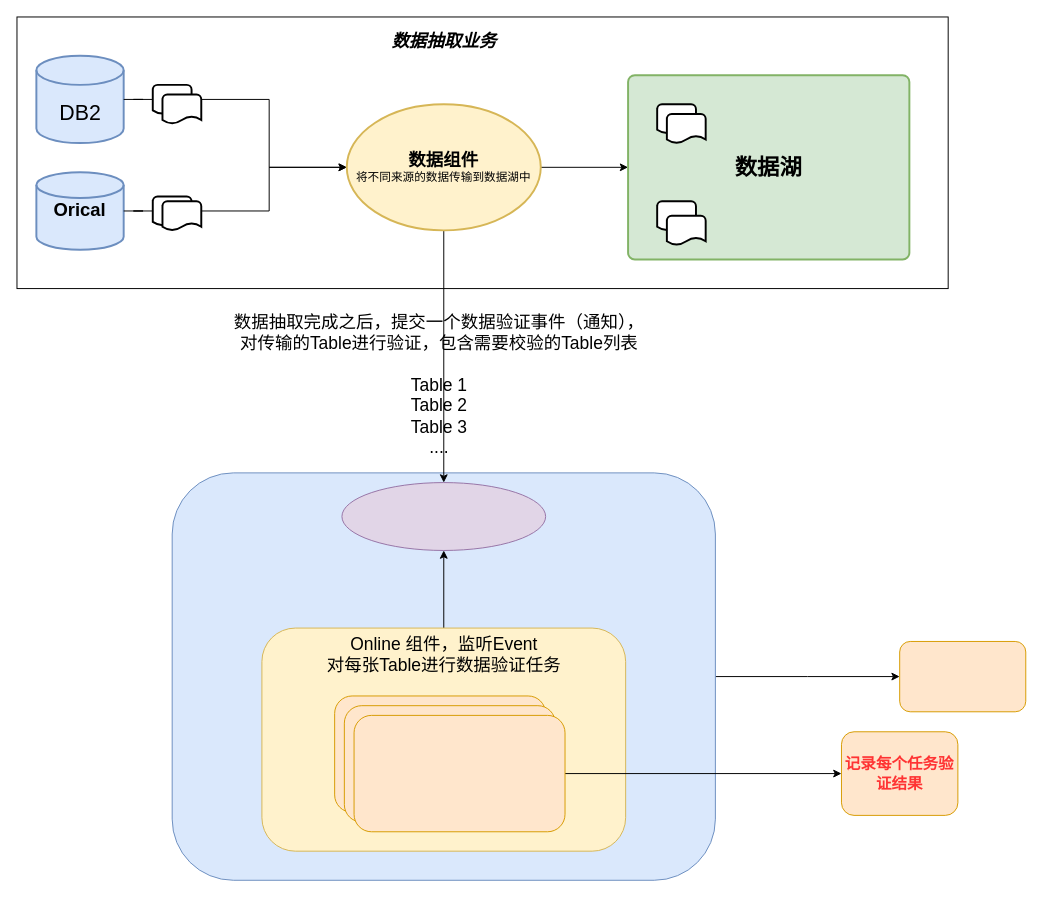
This 1043x897 diagram has some shape labels left out. Each missing label, with the centre of its shape:
1.RecordCount 2.column schema 3.table size 4.checksum（指纹校验）: point (459, 773)
Event: point (443, 516)
记录每个Event验证结果: point (962, 676)
